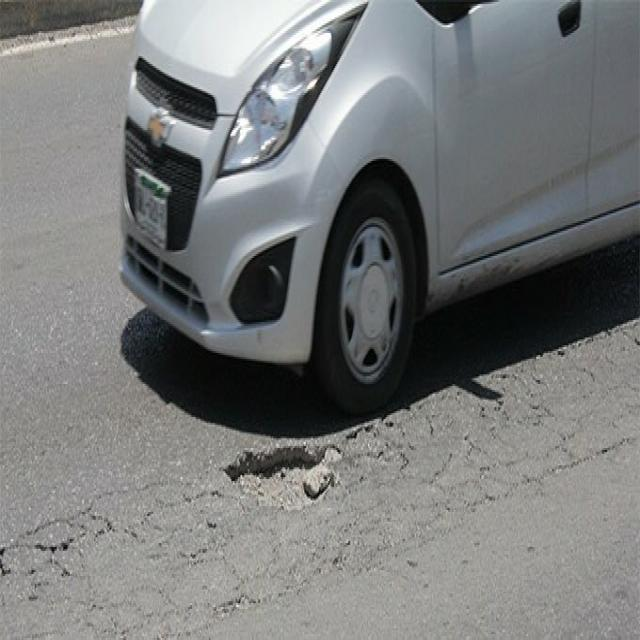Pothole: (183, 417, 416, 576)
